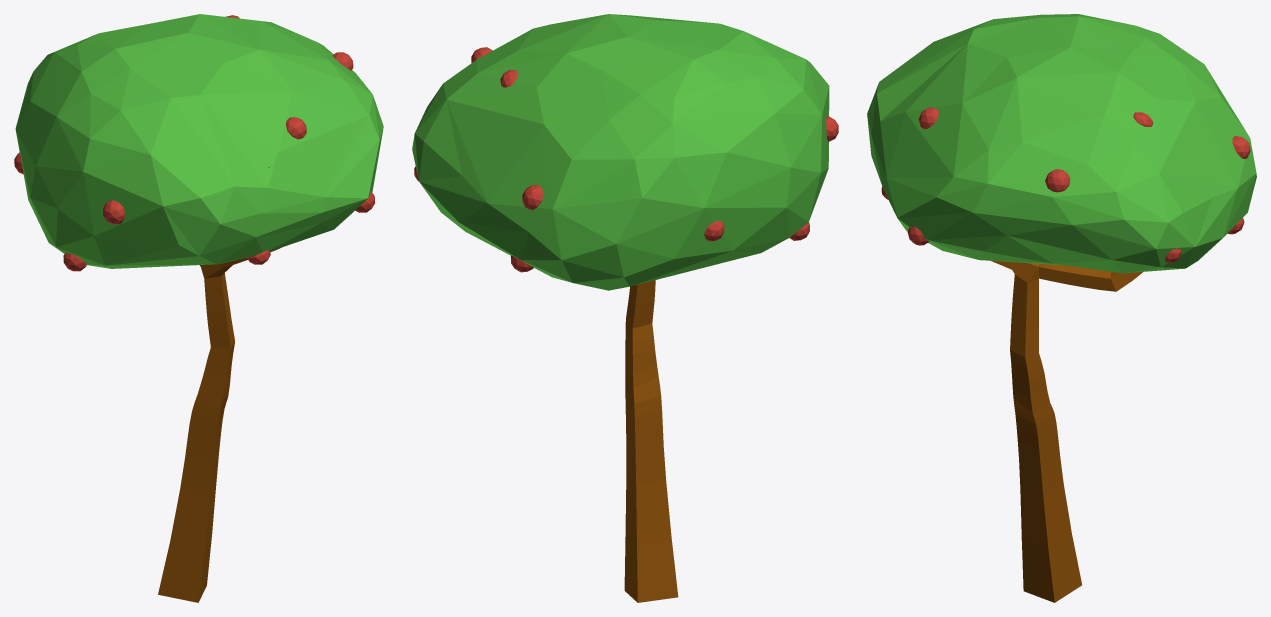
File: Drzewo jabłkowe.fbx
3 views of the same model, side by side, from view 1: azimuth 30°, elevation 25°; view 2: azimuth 150°, elevation 25°; view 3: azimuth 270°, elevation 25° (orthographic). The views are drawn at different scales.
Visible parts, largest first — view 1: Icosphere.008, Cube; view 2: Icosphere.008, Cube; view 3: Icosphere.008, Cube.
Part boxes in pixels (bbox=[...]): Icosphere.008: bbox=[14, 14, 383, 271]; Cube: bbox=[158, 167, 281, 602]; Icosphere.008: bbox=[412, 14, 838, 290]; Cube: bbox=[624, 280, 678, 602]; Icosphere.008: bbox=[867, 14, 1256, 273]; Cube: bbox=[895, 112, 1142, 602].
Size of the model in its own units: 50.03 by 80.03 by 51.37.
